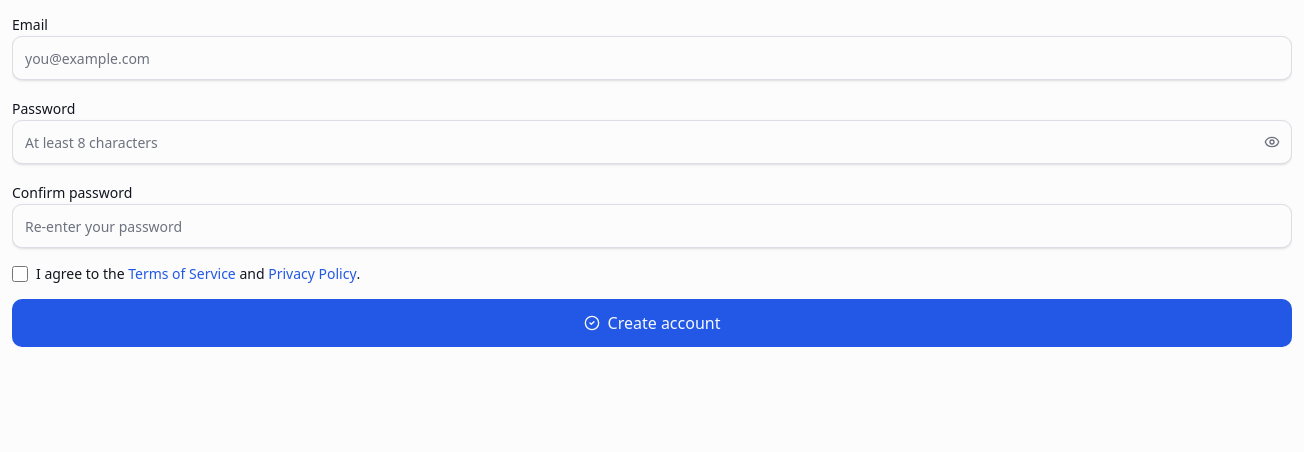
Scenario: SignupForm › shows a validation error when submitting empty
Click the button "Create account" at {"x": 652, "y": 323}, box [12,299,1292,347]
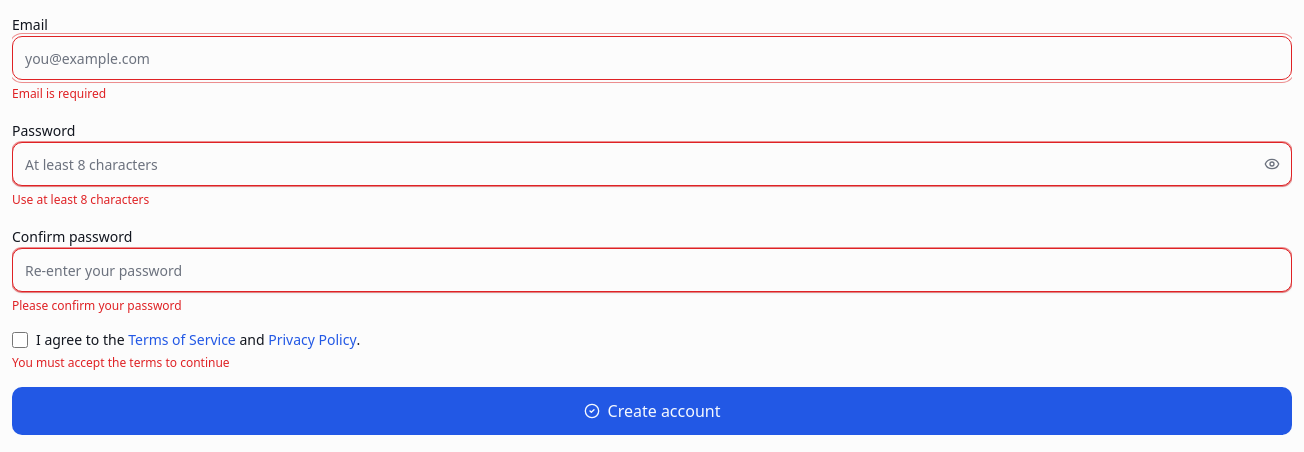
Check: the text "Email is required" is shown, box [12,85,106,102]
